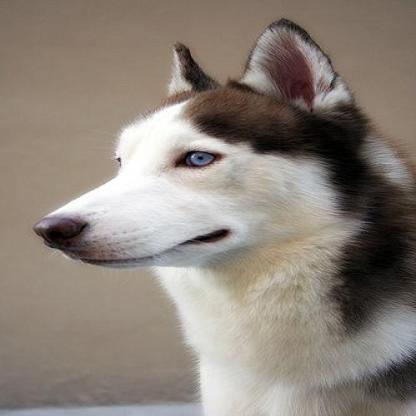Siberian_husky: (30, 16, 411, 413)
